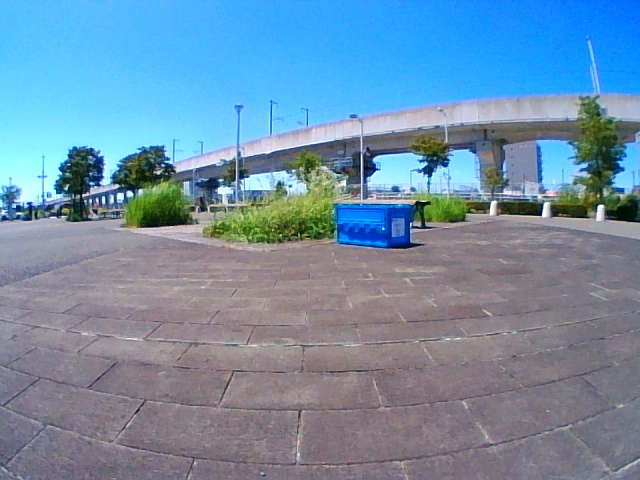blue_box: (337, 205, 409, 244)
tag: (392, 218, 403, 236)
